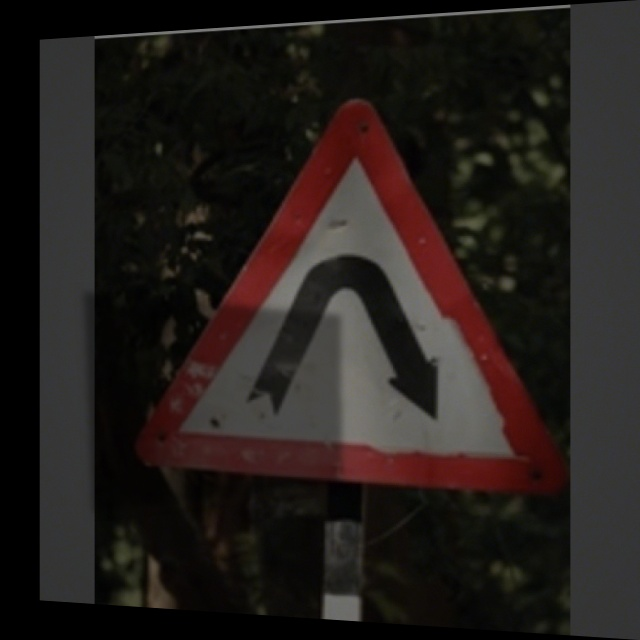Right_Hair_Pin_Bend: (138, 92, 548, 492)
